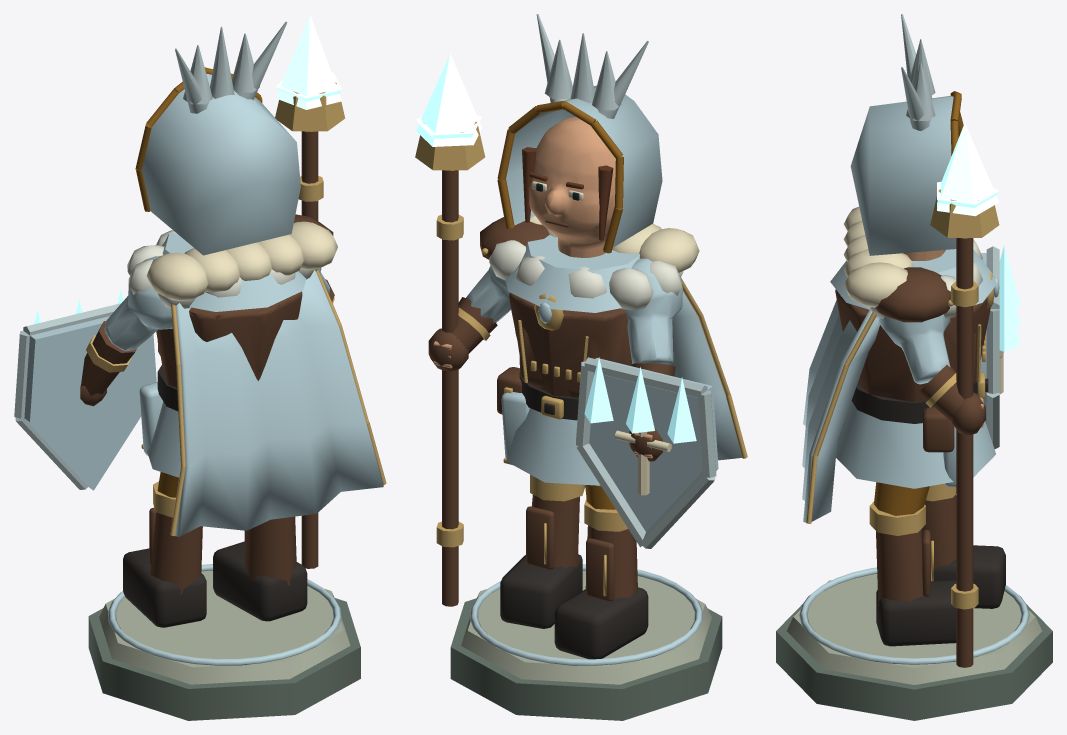
Rendered from advanced_winterregent.glb.
3 views of the same model, side by side, from view 1: azimuth 30°, elevation 25°; view 2: azimuth 150°, elevation 25°; view 3: azimuth 270°, elevation 25° (orthographic).
Parts seen in each view (by area): view 1: Rank inlay.001, Boot shaft.002, Beveled limestone top.001, Octagonal footing.001, Leather boot toe.002, Eye white.002, Shield rim.005, Boot cuff.002, Faceted crystal.001, Fur mantle.010, Trouser leg.002; view 2: Rank inlay.001, Boot shaft.002, Octagonal footing.001, Beveled limestone top.001, Shield rim.005, Leather boot toe.002, Unified face and neck.001, Boot cuff.002, Fur mantle.010, Eye white.002, Trouser leg.002, Faceted crystal.001 (+2 smaller); view 3: Rank inlay.001, Boot shaft.002, Beveled limestone top.001, Octagonal footing.001, Leather boot toe.002, Boot cuff.002, Shield rim.005, Eye white.002, Faceted crystal.001, Trouser leg.002, Shield ice shard.003, Fur mantle.010.
Part boxes in pixels (left/top/right/bottom): Rank inlay.001: left=24, top=73, right=383, bottom=665; Boot shaft.002: left=80, top=131, right=334, bottom=594; Beveled limestone top.001: left=99, top=570, right=350, bottom=684; Octagonal footing.001: left=88, top=598, right=360, bottom=720; Leather boot toe.002: left=123, top=365, right=307, bottom=627; Eye white.002: left=146, top=221, right=337, bottom=300; Shield rim.005: left=14, top=21, right=287, bottom=489; Boot cuff.002: left=86, top=82, right=386, bottom=536; Faceted crystal.001: left=276, top=14, right=341, bottom=109; Fur mantle.010: left=127, top=230, right=318, bottom=308; Trouser leg.002: left=135, top=67, right=262, bottom=497; Rank inlay.001: left=466, top=85, right=742, bottom=665; Boot shaft.002: left=428, top=170, right=675, bottom=606; Octagonal footing.001: left=450, top=598, right=722, bottom=720; Beveled limestone top.001: left=461, top=570, right=711, bottom=684; Shield rim.005: left=536, top=14, right=716, bottom=548; Leather boot toe.002: left=500, top=372, right=648, bottom=659; Unified face and neck.001: left=433, top=117, right=652, bottom=458; Boot cuff.002: left=415, top=121, right=747, bottom=596; Fur mantle.010: left=489, top=240, right=683, bottom=310; Eye white.002: left=530, top=181, right=699, bottom=495; Trouser leg.002: left=497, top=101, right=623, bottom=509; Faceted crystal.001: left=416, top=53, right=482, bottom=146; Rank inlay.001: left=799, top=96, right=1029, bottom=664; Boot shaft.002: left=835, top=238, right=1003, bottom=667; Beveled limestone top.001: left=787, top=574, right=1041, bottom=684; Octagonal footing.001: left=776, top=604, right=1052, bottom=720; Leather boot toe.002: left=851, top=377, right=1005, bottom=646; Boot cuff.002: left=806, top=189, right=999, bottom=609; Shield rim.005: left=901, top=14, right=999, bottom=448; Eye white.002: left=843, top=206, right=1003, bottom=394; Faceted crystal.001: left=937, top=123, right=999, bottom=216; Trouser leg.002: left=874, top=91, right=963, bottom=515; Shield ice shard.003: left=999, top=245, right=1020, bottom=351; Fur mantle.010: left=846, top=239, right=982, bottom=318.
Bounding box in the file's own units: 1.12 × 2.18 × 0.88.
